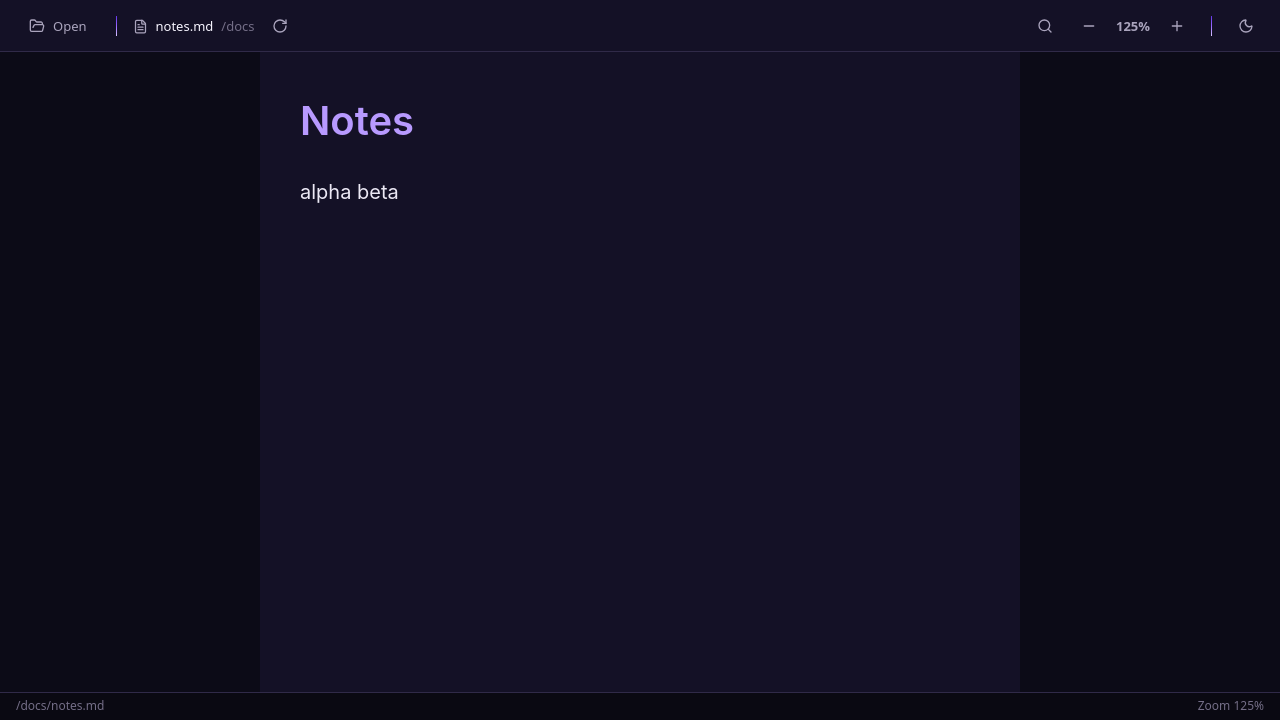
Test case: an automatic refresh › keeps the search query, theme and zoom while showing the new content
Expected: the text "alpha beta" is shown, [300,180,399,204]
Press f
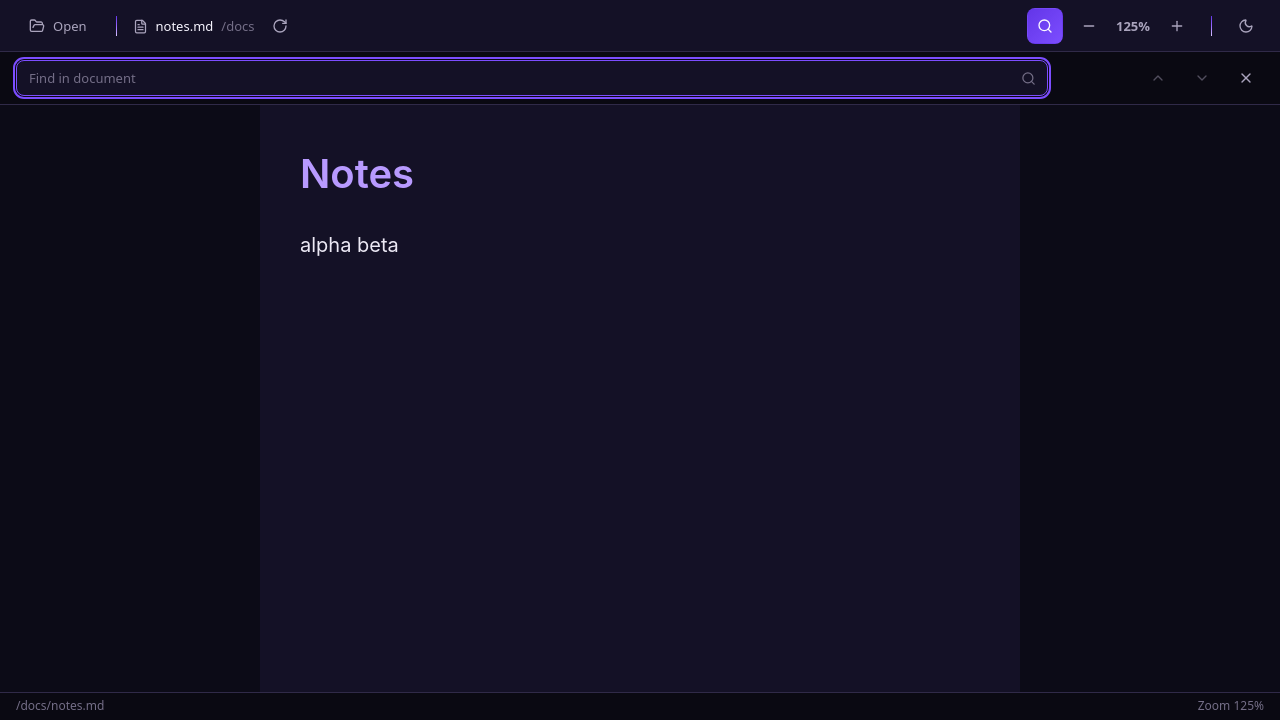
Type "beta" into the field labelled "Find in document". click: {"x": 532, "y": 78}
box: [16,60,1048,96]
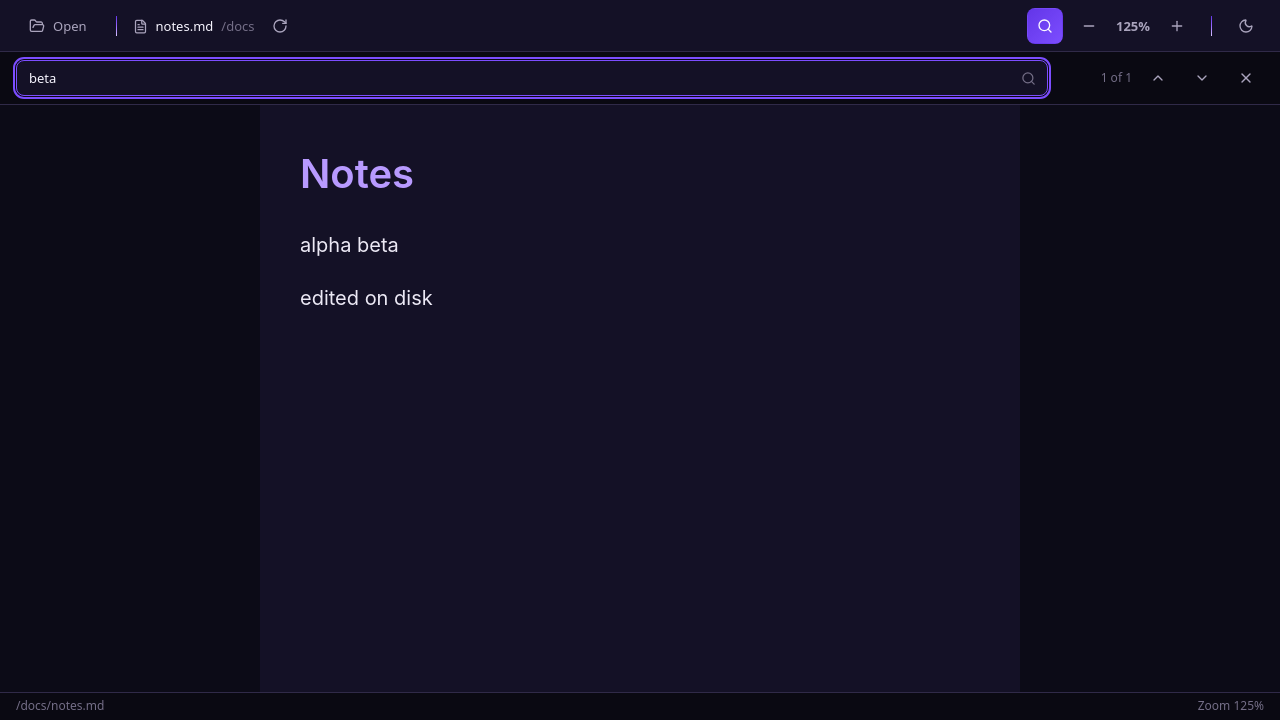
Now the text "edited on disk" is shown, box [300,286,433,310]
Now the text "1 of 1" is shown, box [1101,69,1132,86]
